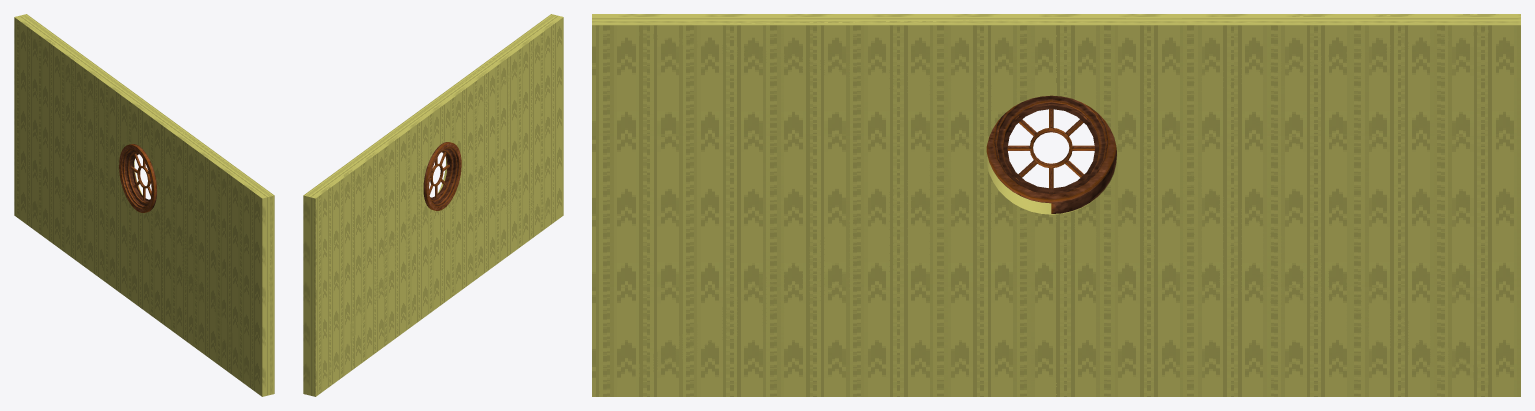
File: avecfenetre.glb
3 renders of one model, left to right at view 1: azimuth 30°, elevation 25°; view 2: azimuth 150°, elevation 25°; view 3: azimuth 270°, elevation 25°, orthographic. The views are drawn at different scales.
Visible parts, largest first — view 1: Cube.003, window_base_low.002; view 2: Cube.003, window_base_low.002; view 3: Cube.003, window_base_low.002.
Part boxes in pixels (x1,y1,x2,y2): Cube.003: [14, 14, 274, 396]; window_base_low.002: [119, 144, 156, 212]; Cube.003: [303, 14, 563, 396]; window_base_low.002: [423, 142, 461, 210]; Cube.003: [592, 14, 1520, 396]; window_base_low.002: [986, 95, 1116, 213].
Bounding box in the file's own units: 0.3007 × 3.65 × 8.27.
2 materials, 2 textured.
